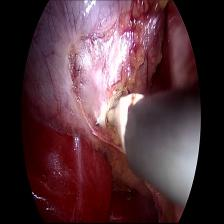Hook: (93, 92, 144, 152)
